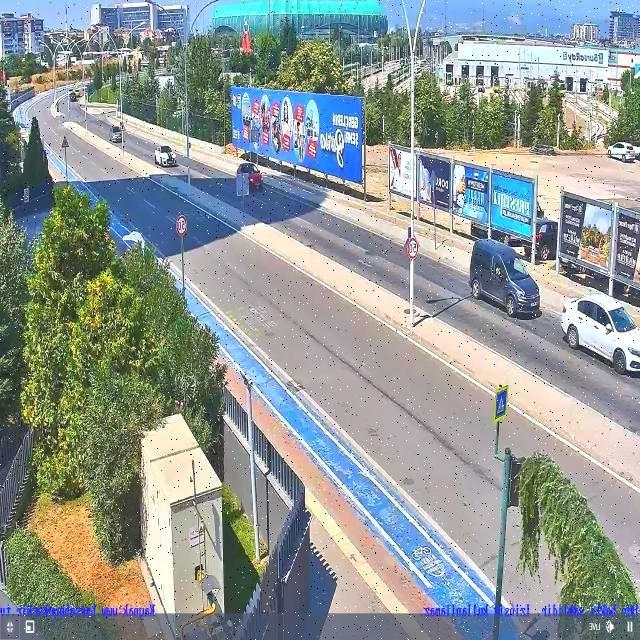Car: (558, 291, 640, 372), (154, 145, 178, 171), (237, 163, 261, 188), (109, 126, 124, 144)
Van: (470, 237, 542, 323)
